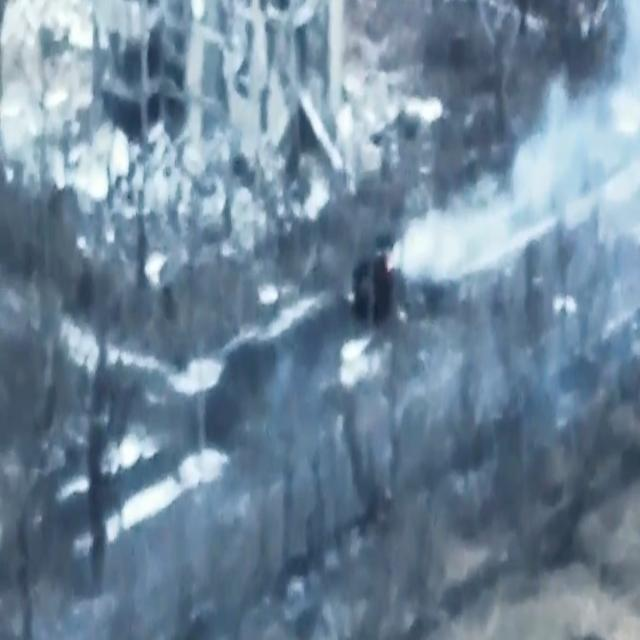vehicle: (352, 244, 392, 323)
